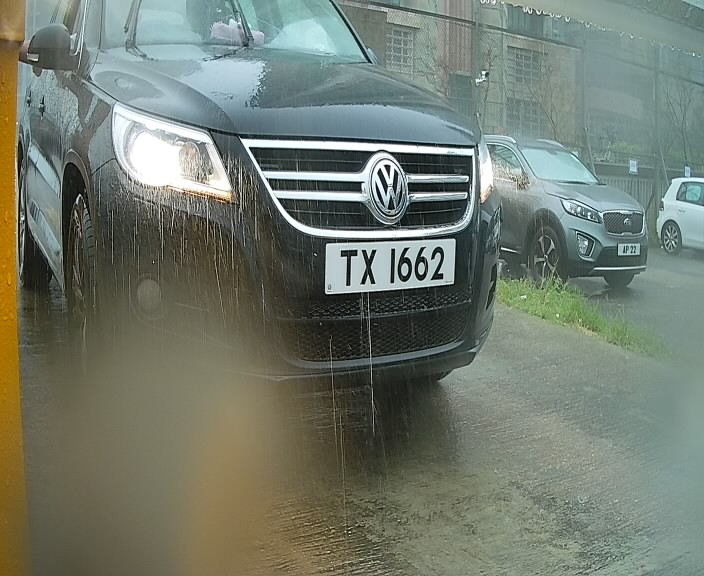Car: (37, 5, 550, 461)
License Plate: (317, 226, 466, 301)
